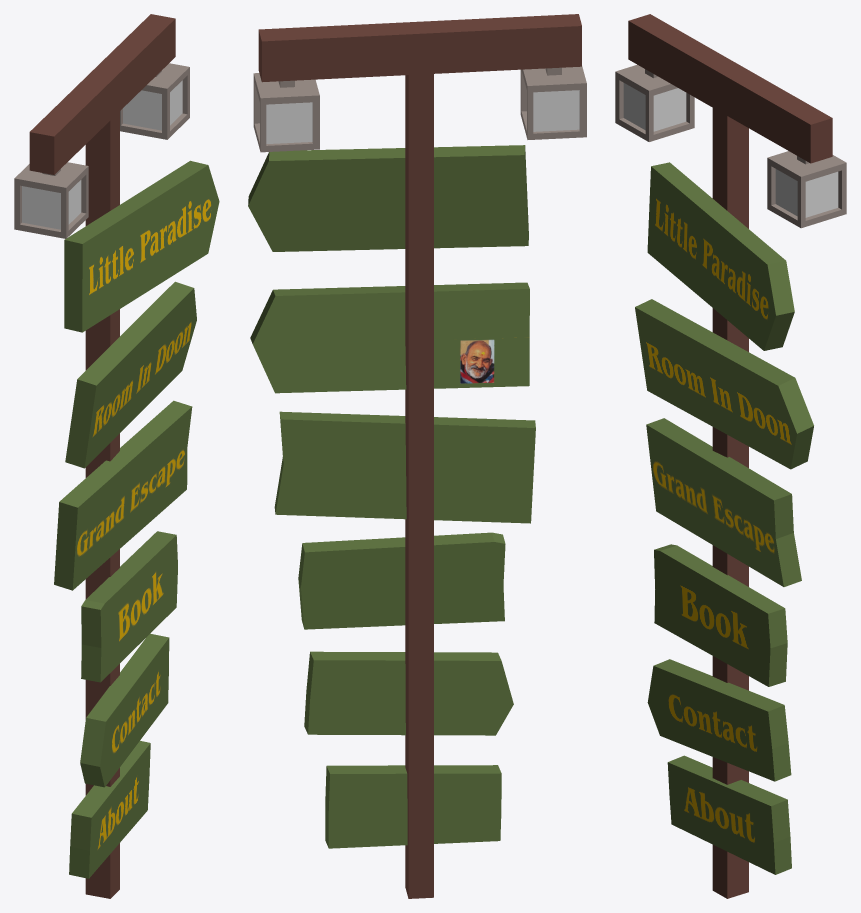
File: navigationBoard.gltf
3 views of the same model, side by side, from view 1: azimuth 30°, elevation 25°; view 2: azimuth 150°, elevation 25°; view 3: azimuth 270°, elevation 25° (orthographic). The views are drawn at different scales.
Visible parts, largest first — view 1: mainFrame, card1, card3, card2, card4, card5, card5.001, leftLampFrame, rightLampFrame, leftLampShade, rightLampShade; view 2: mainFrame, card2, card1, card3, card4, card5, card5.001, rightLampFrame, leftLampFrame, rightLampShade, leftLampShade; view 3: mainFrame, card2, card1, card3, card4, card5, card5.001, rightLampFrame, leftLampFrame, rightLampShade, leftLampShade.
Boxes of the visible parts, box(x1,y1,x2,y2) form: mainFrame: box(29, 14, 175, 898); card1: box(64, 160, 219, 332); card3: box(54, 400, 192, 590); card2: box(65, 281, 196, 468); card4: box(81, 531, 177, 682); card5: box(80, 633, 169, 787); card5.001: box(69, 740, 150, 878); leftLampFrame: box(14, 162, 88, 238); rightLampFrame: box(120, 63, 189, 139); leftLampShade: box(22, 180, 81, 229); rightLampShade: box(123, 80, 182, 130); mainFrame: box(258, 14, 581, 898); card2: box(250, 282, 529, 393); card1: box(248, 145, 528, 251); card3: box(274, 411, 535, 523); card4: box(298, 532, 505, 629); card5: box(304, 651, 513, 735); card5.001: box(325, 765, 501, 848); rightLampFrame: box(253, 73, 319, 152); leftLampFrame: box(520, 66, 586, 139); rightLampShade: box(266, 102, 312, 143); leftLampShade: box(533, 90, 579, 131); mainFrame: box(628, 14, 832, 898); card2: box(635, 299, 813, 469); card1: box(647, 162, 794, 350); card3: box(646, 418, 801, 586); card4: box(654, 544, 787, 686); card5: box(647, 659, 791, 781); card5.001: box(667, 755, 791, 874); rightLampFrame: box(767, 151, 846, 228); leftLampFrame: box(615, 64, 694, 141); rightLampShade: box(775, 169, 838, 217); leftLampShade: box(623, 83, 686, 131).
Bounding box in the file's own units: 2.5 × 7.45 × 1.9.
Materials: 7 (5 with a texture image).
